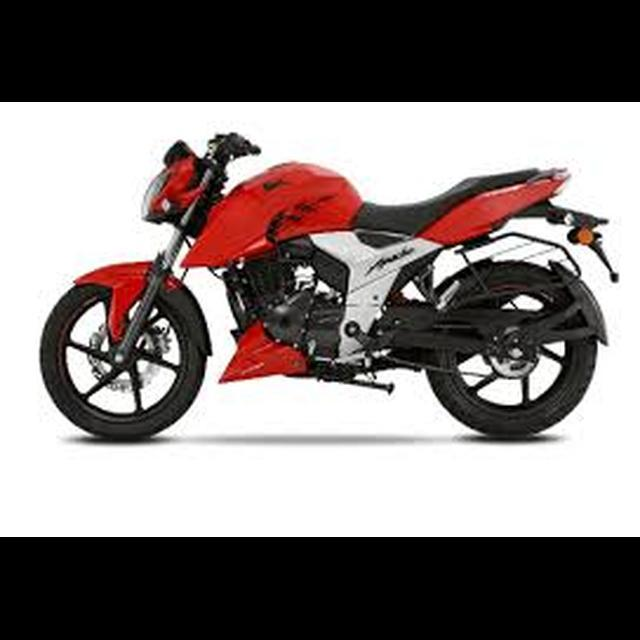motorcycle: (37, 123, 625, 449)
